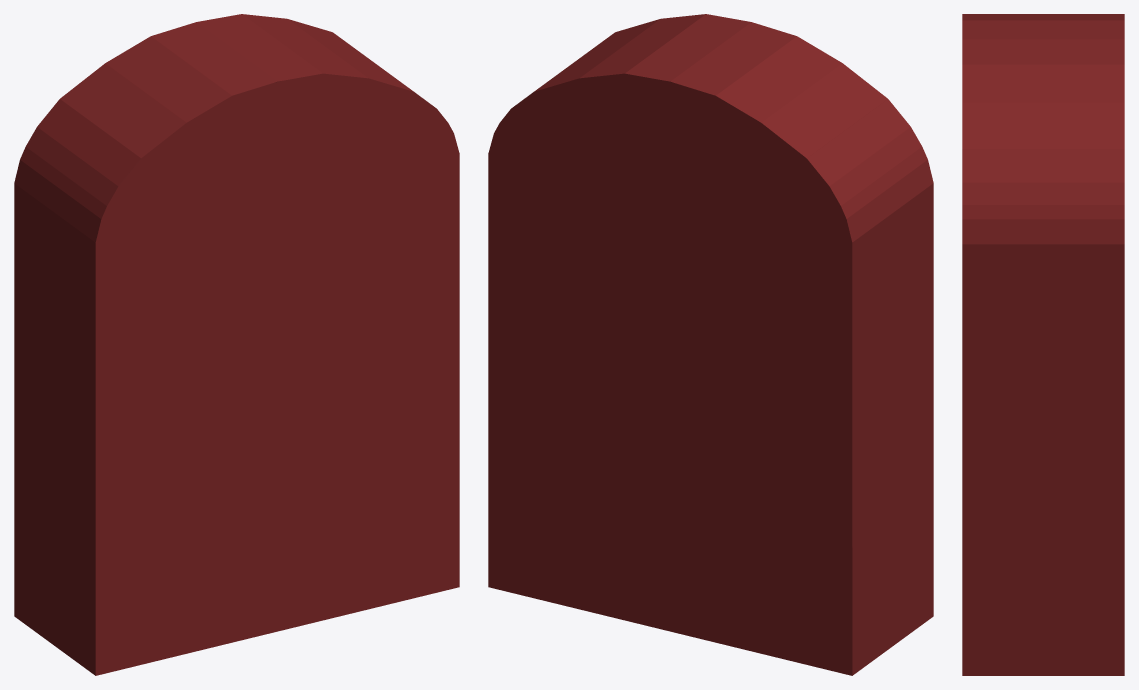
Rendered from DoorBase.obj.
3 views of the same model, side by side, from view 1: azimuth 30°, elevation 25°; view 2: azimuth 150°, elevation 25°; view 3: azimuth 270°, elevation 25° (orthographic).
Visible parts, largest first — view 1: Cube; view 2: Cube; view 3: Cube.
Boxes of the visible parts, x1,y1,x2,y2 form: Cube: (14,14,459,675); Cube: (488,14,933,675); Cube: (962,14,1124,675).
Bounding box in the file's own units: 2 × 2.89 × 0.7747.
Materials: 1 (1 with a texture image).
